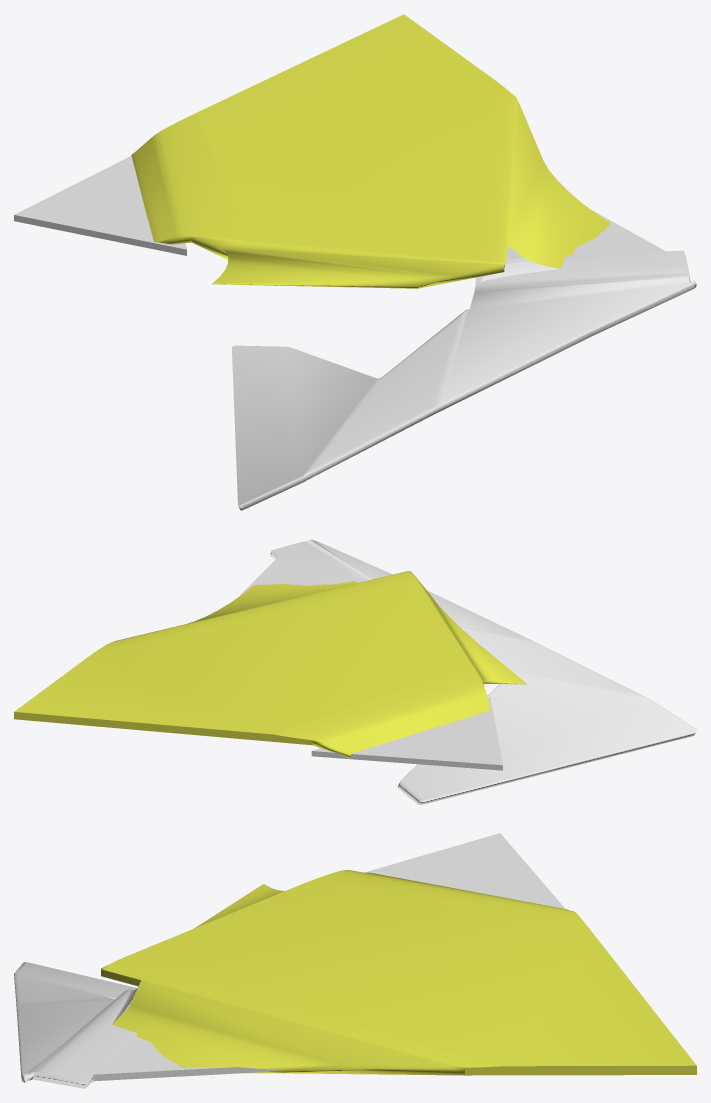
The model's file is SM_Fourier_coillder.fbx.
The picture shows the model from 3 angles, top to bottom: view 1: azimuth 30°, elevation 25°; view 2: azimuth 150°, elevation 25°; view 3: azimuth 270°, elevation 25°; orthographic projection. The views are drawn at different scales.
Parts seen in each view (by area): view 1: Coillder004, Coillder001.001, Coillder004.001, polt02_002, Coillder007, 平面; view 2: Coillder004, Coillder001.001, polt02_002, Coillder004.001, Coillder007; view 3: Coillder004, Coillder004.001, Coillder001.001, polt02_002, Coillder007.
Part boxes in pixels (x1=…): Coillder004: x1=131, y1=14, x2=517, y2=288; Coillder001.001: x1=232, y1=250, x2=696, y2=510; Coillder004.001: x1=507, y1=98, x2=610, y2=268; polt02_002: x1=14, y1=156, x2=186, y2=255; Coillder007: x1=572, y1=210, x2=665, y2=254; 平面: x1=480, y1=245, x2=560, y2=281; Coillder004: x1=14, y1=571, x2=526, y2=758; Coillder001.001: x1=270, y1=539, x2=696, y2=804; polt02_002: x1=311, y1=697, x2=502, y2=770; Coillder004.001: x1=115, y1=581, x2=356, y2=641; Coillder007: x1=239, y1=556, x2=325, y2=596; Coillder004: x1=101, y1=870, x2=696, y2=1075; Coillder004.001: x1=112, y1=980, x2=464, y2=1075; Coillder001.001: x1=14, y1=962, x2=137, y2=1088; polt02_002: x1=364, y1=833, x2=565, y2=908; Coillder007: x1=93, y1=1036, x2=281, y2=1081.
Bounding box in the file's own units: 956 × 279 × 1108.
